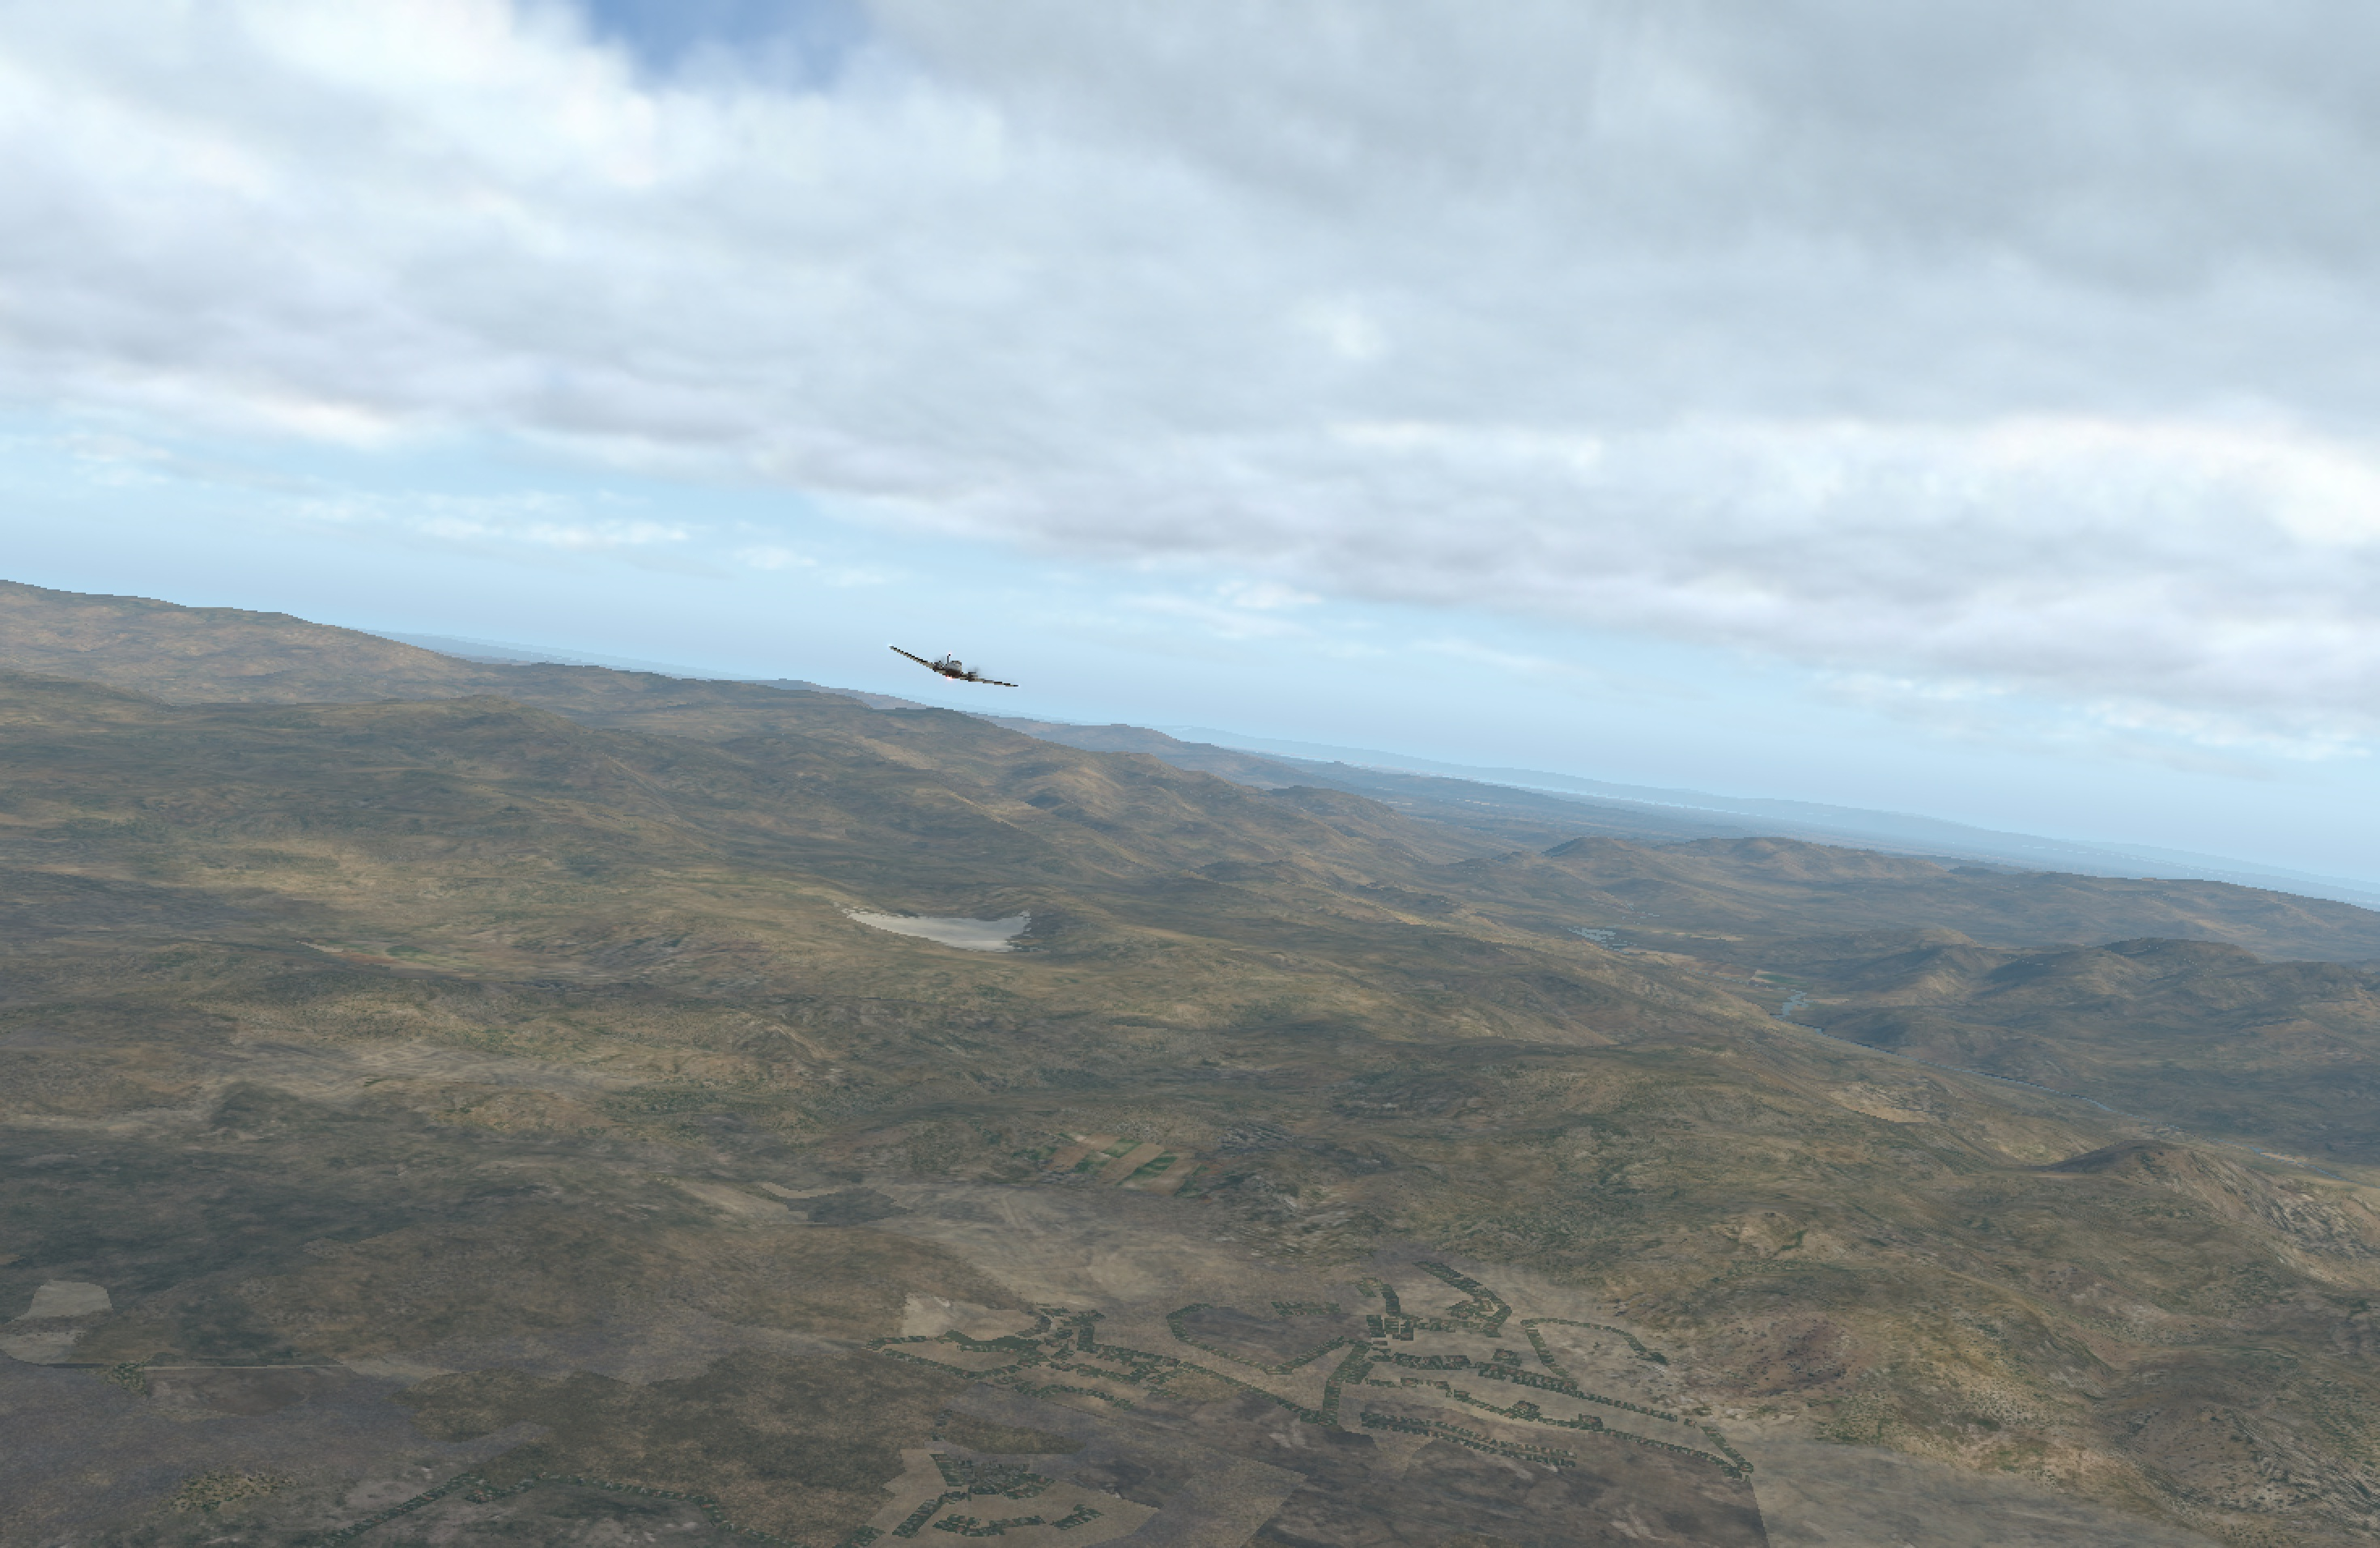aircraft: (885, 649, 1022, 701)
